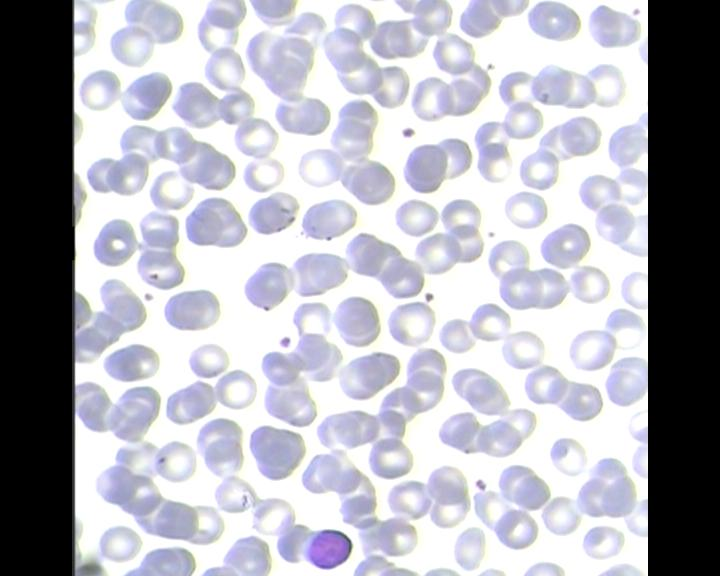lymp: (297, 525, 355, 571)
